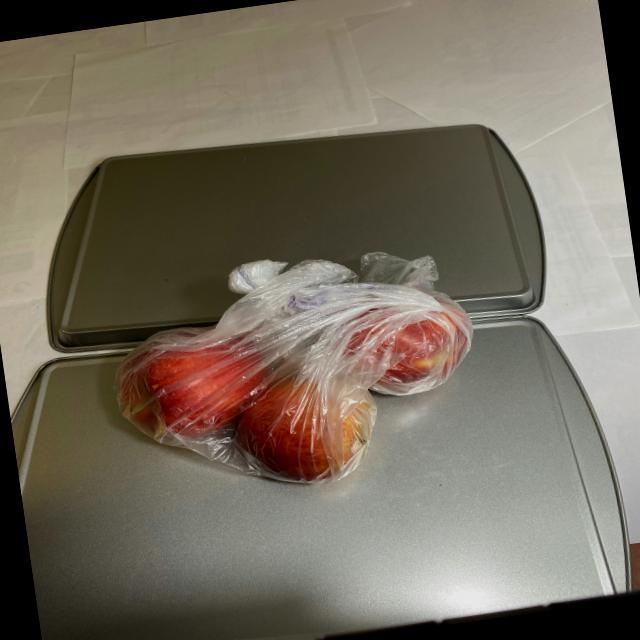apple: (102, 275, 489, 507)
